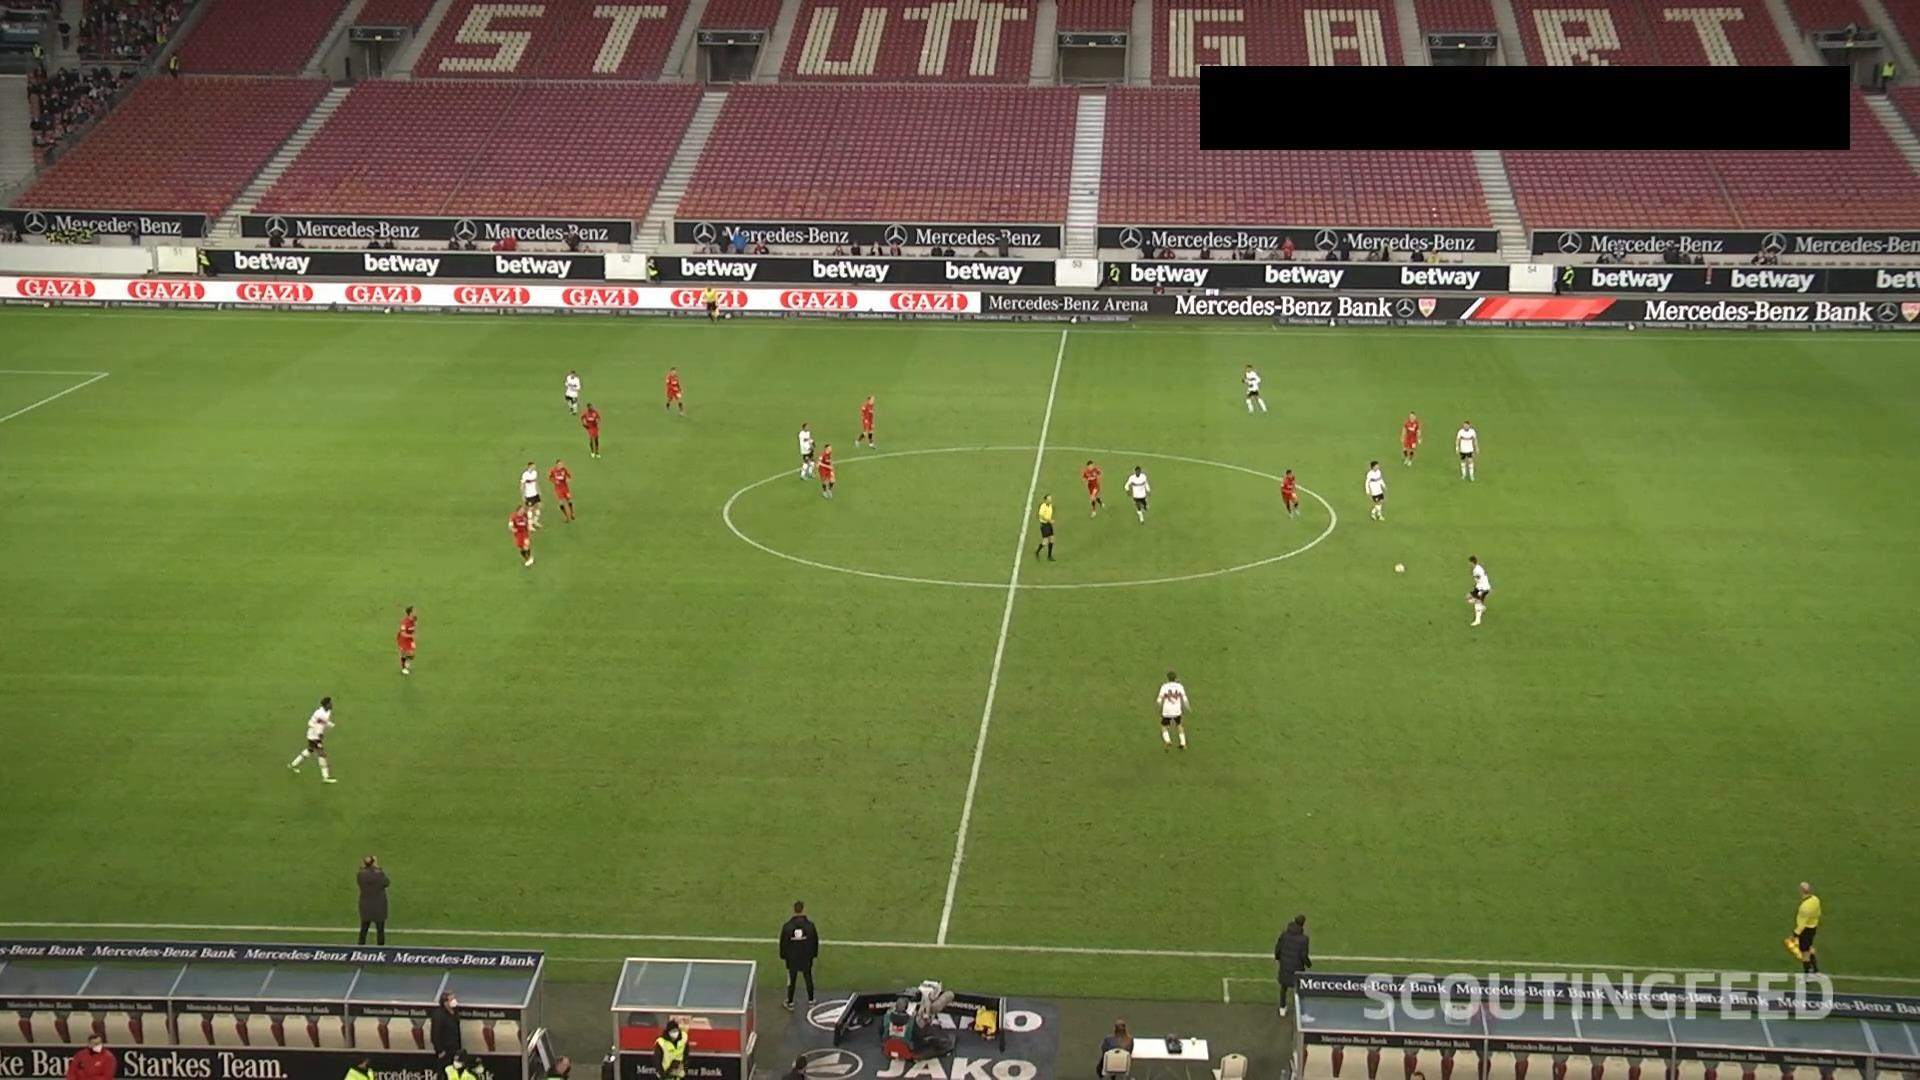ball: (1393, 562, 1407, 576)
